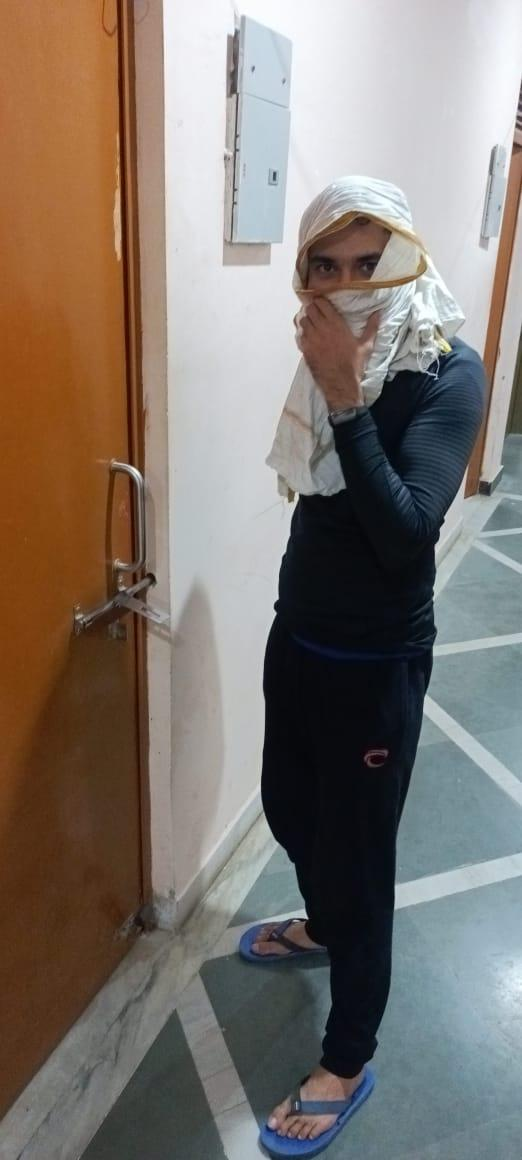suspicion: (170, 123, 522, 1160)
